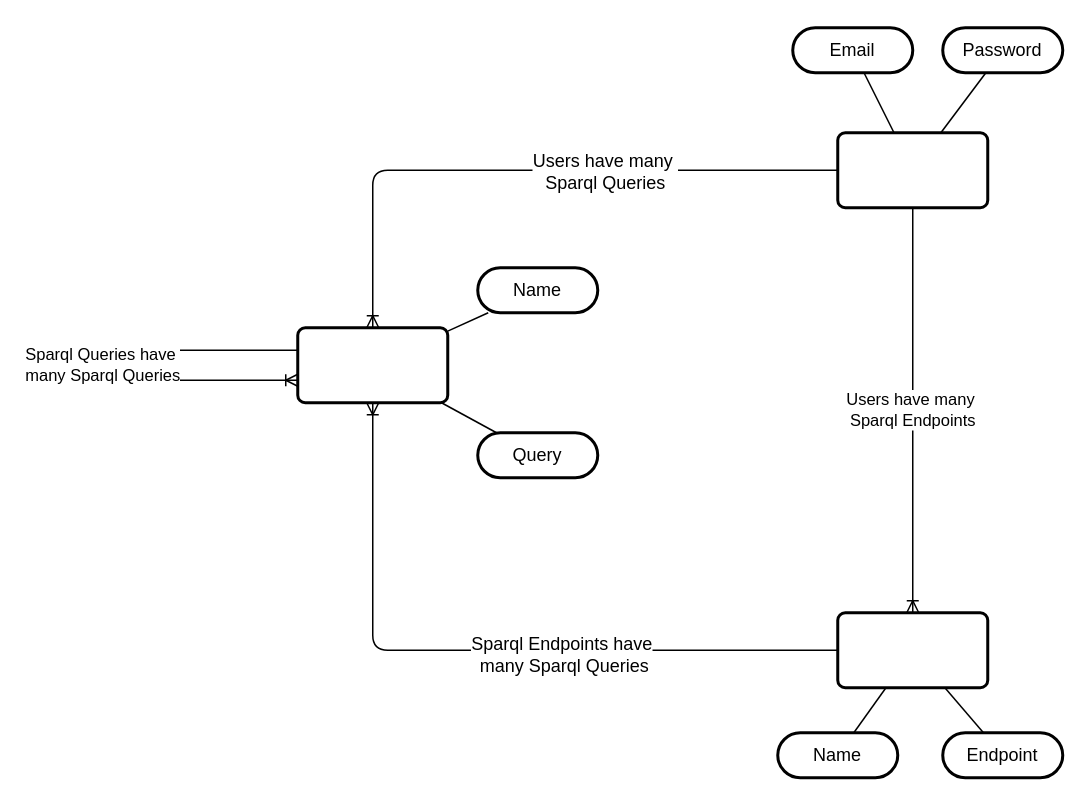
This 1091x804 diagram has some shape labels left out. The centre of each missing label's shape, as x and y in pixels:
Sparql Endpoint: (x=912, y=649)
Sparql Query: (x=372, y=365)
User: (x=912, y=169)
